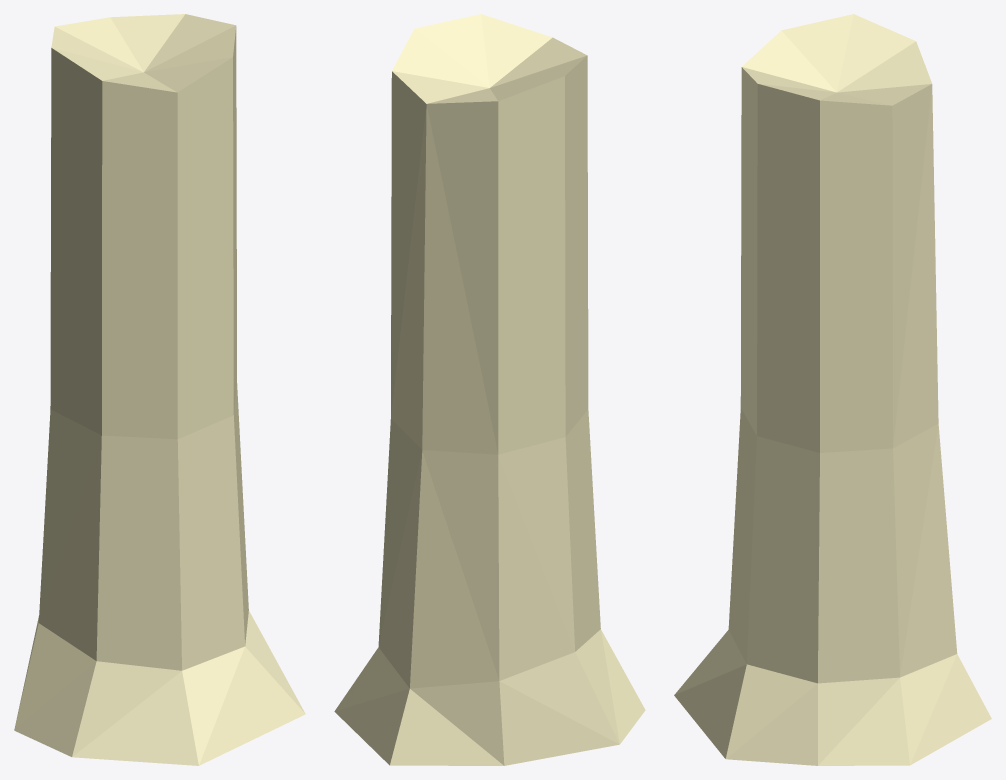
The model's file is Prop_Gothic_Candle_03.FBX.
The picture shows the model from 3 angles, left to right: view 1: azimuth 30°, elevation 25°; view 2: azimuth 150°, elevation 25°; view 3: azimuth 270°, elevation 25°; orthographic projection.
Parts seen in each view (by area): view 1: Prop_Gothic_Candle_03; view 2: Prop_Gothic_Candle_03; view 3: Prop_Gothic_Candle_03.
Boxes of the visible parts, x1,y1,x2,y2 form: Prop_Gothic_Candle_03: [14, 14, 305, 765]; Prop_Gothic_Candle_03: [334, 14, 645, 765]; Prop_Gothic_Candle_03: [674, 14, 991, 765].
Bounding box in the file's own units: 87.7 × 223 × 98.41.
